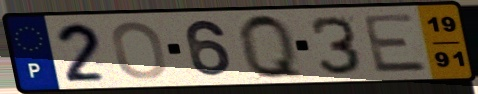2: (50, 18, 113, 86)
3: (309, 14, 366, 77)
6: (184, 18, 235, 79)
E: (359, 12, 432, 75)
O: (109, 19, 169, 82)
Q: (235, 11, 309, 82)
